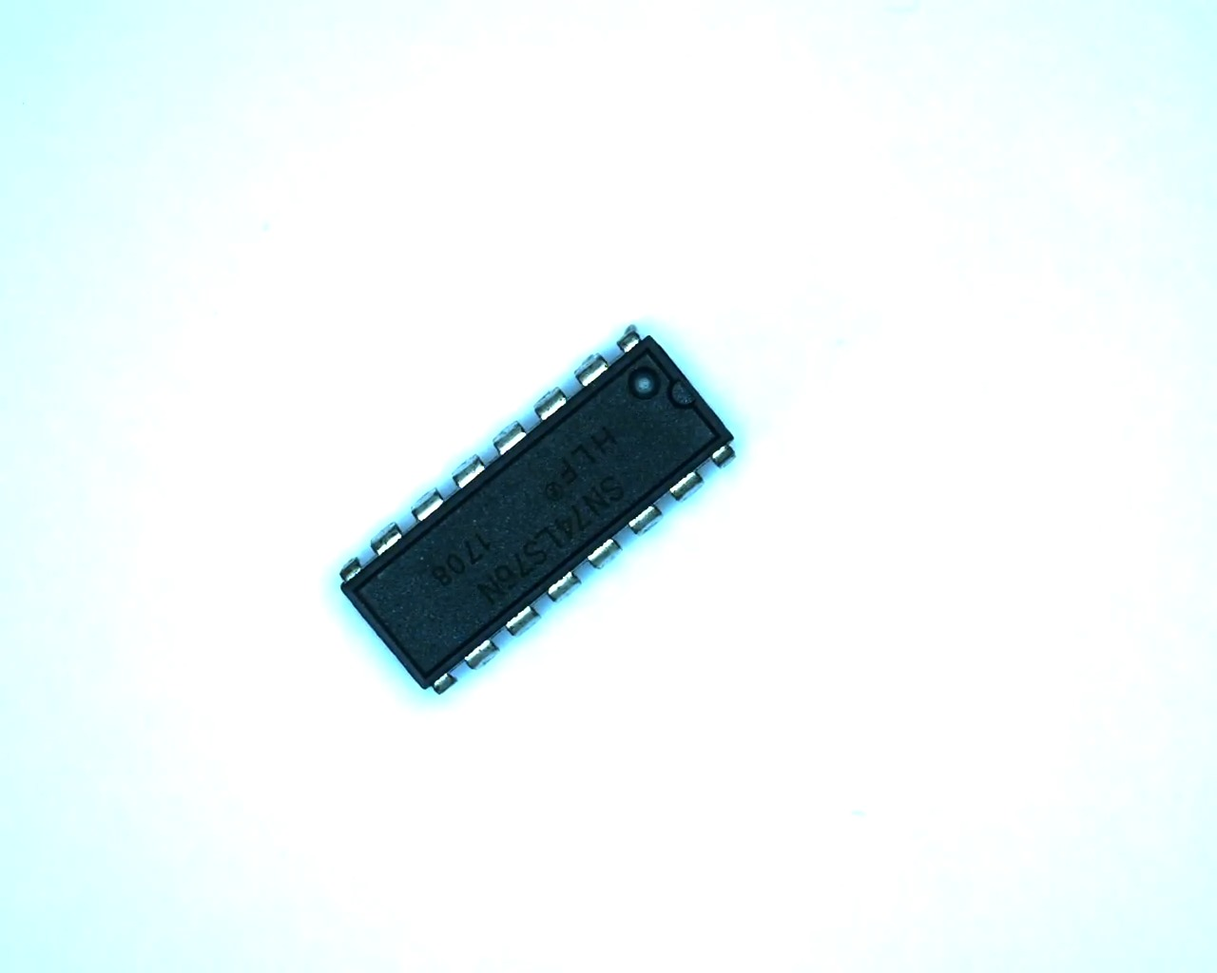IC: (320, 311, 756, 711)
notch: (666, 371, 701, 414)
